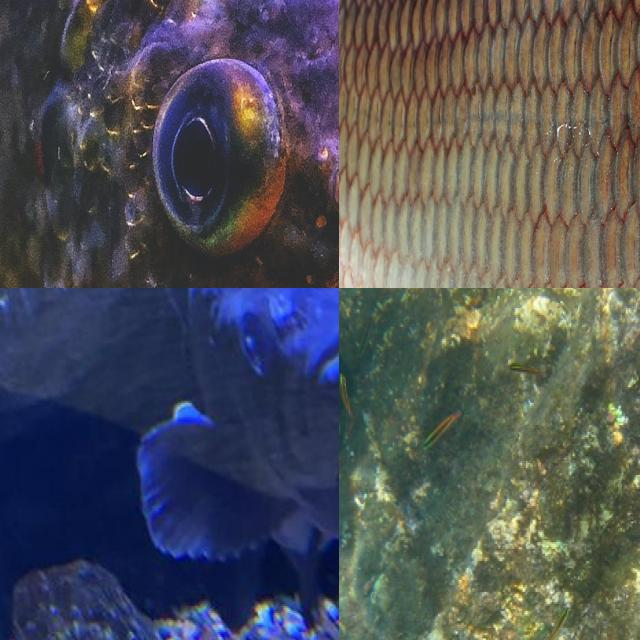fish: (0, 0, 339, 288), (339, 0, 640, 288), (130, 288, 339, 592)
